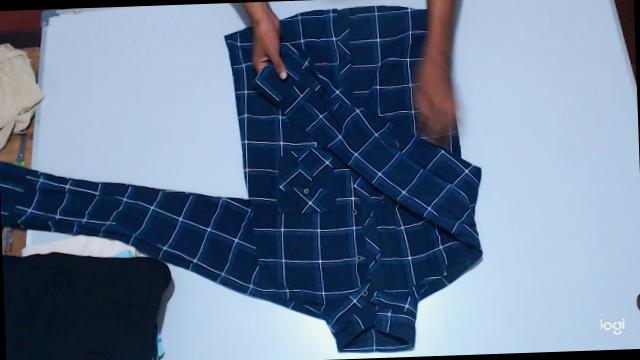new-garment: (0, 6, 482, 352)
